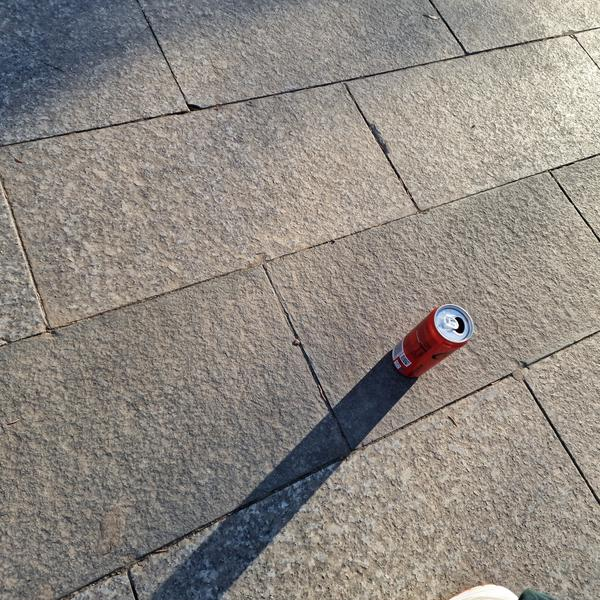can: (382, 293, 483, 387)
